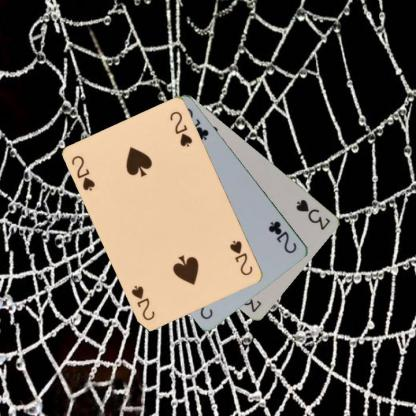2c: (266, 218, 298, 255)
2s: (69, 152, 97, 192), (227, 237, 254, 278)
3s: (294, 197, 332, 231)
